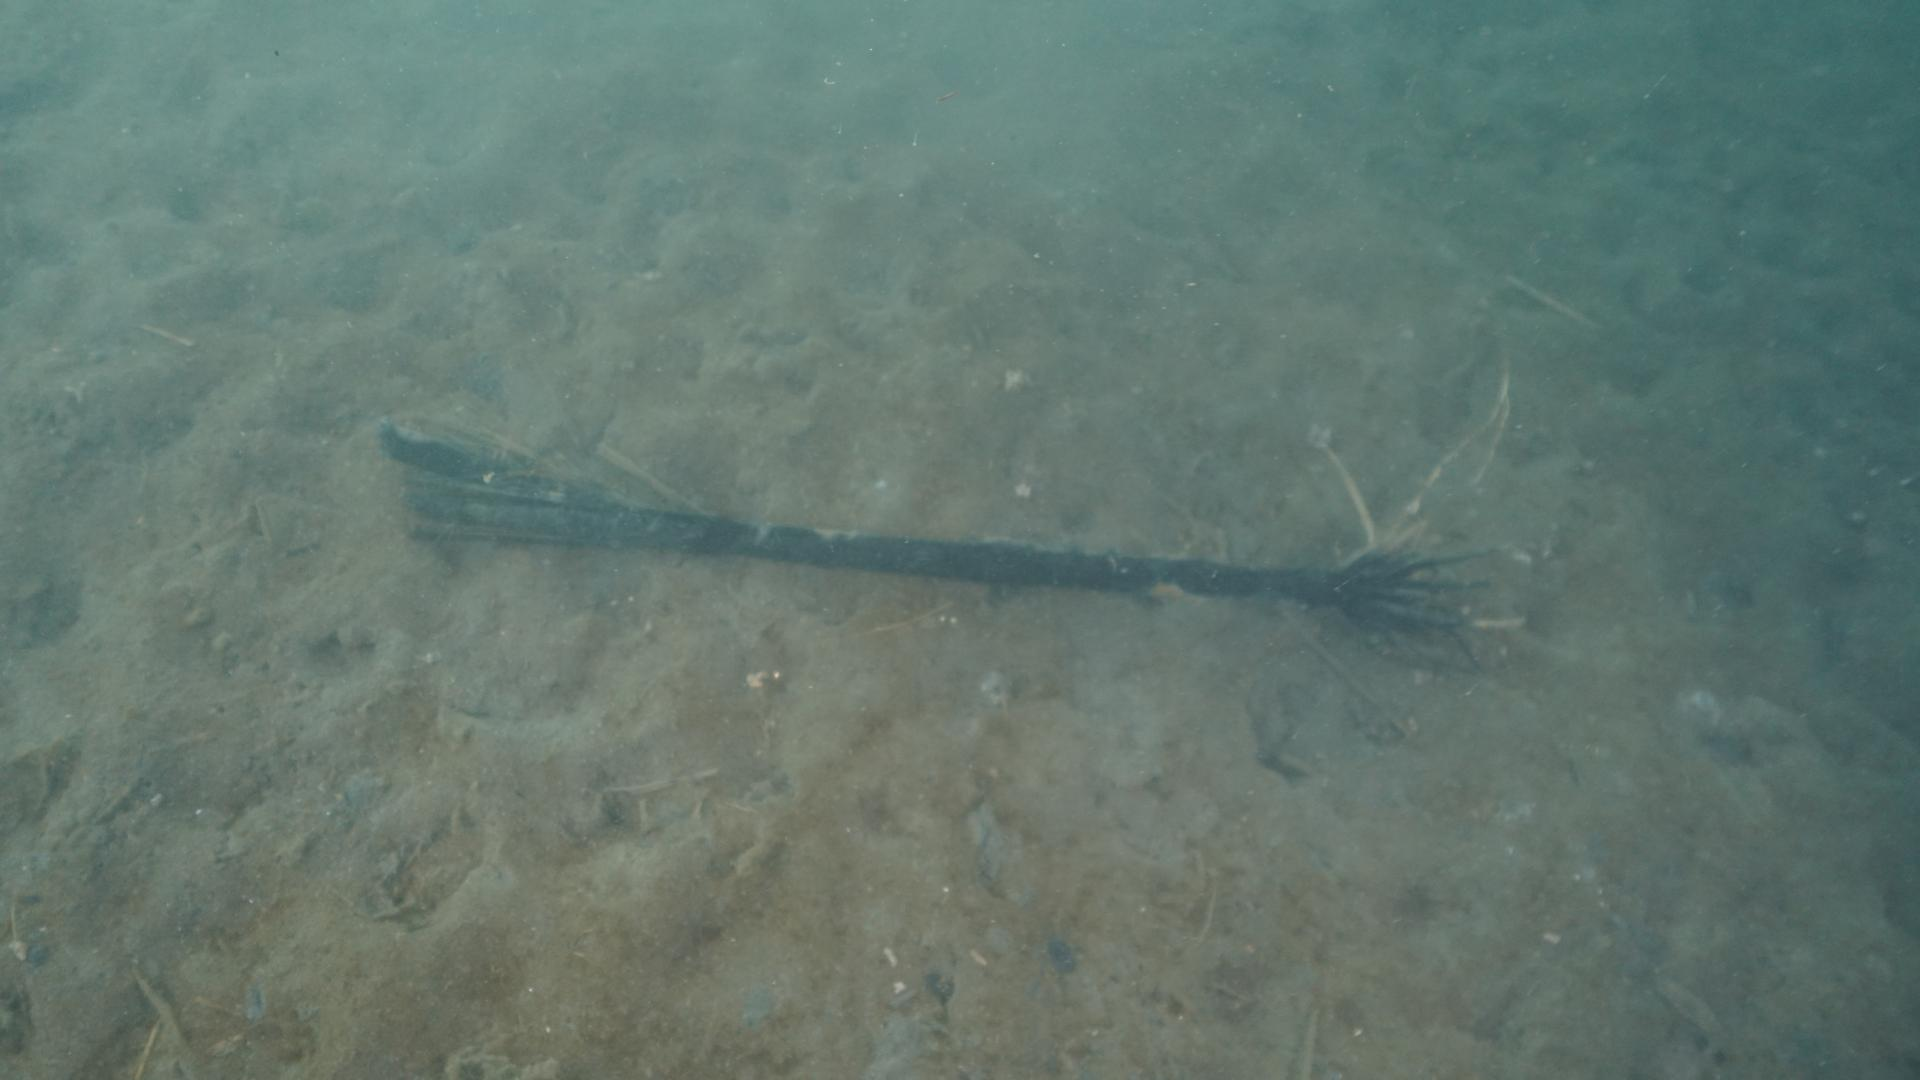wood: (376, 419, 1487, 665)
